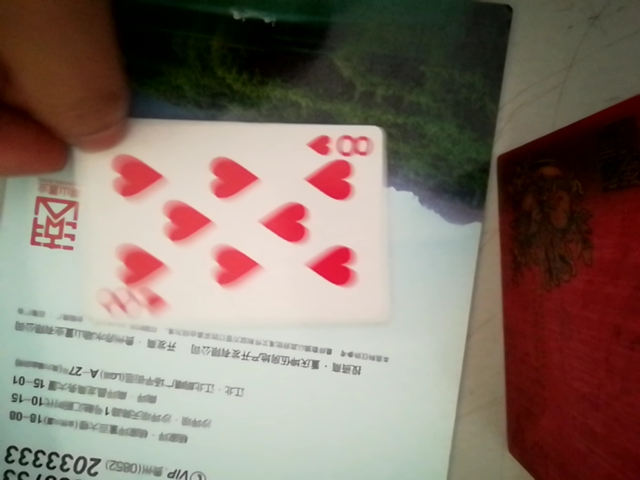hx 8: (77, 117, 390, 332)
